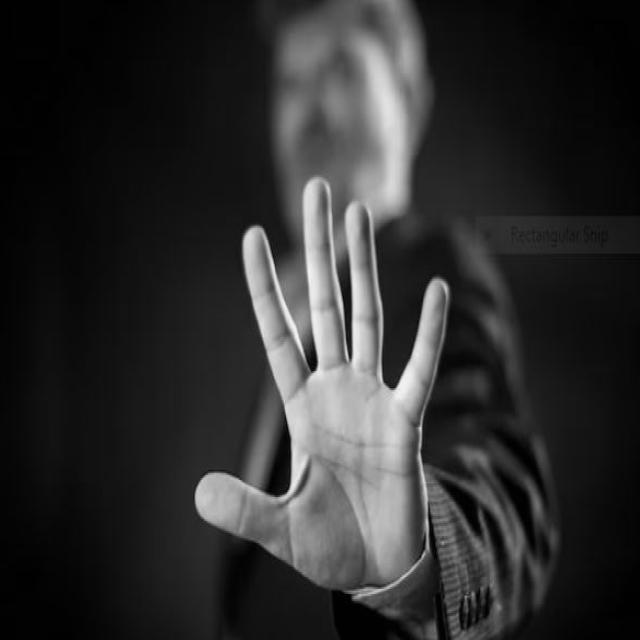stop: (190, 163, 454, 603)
